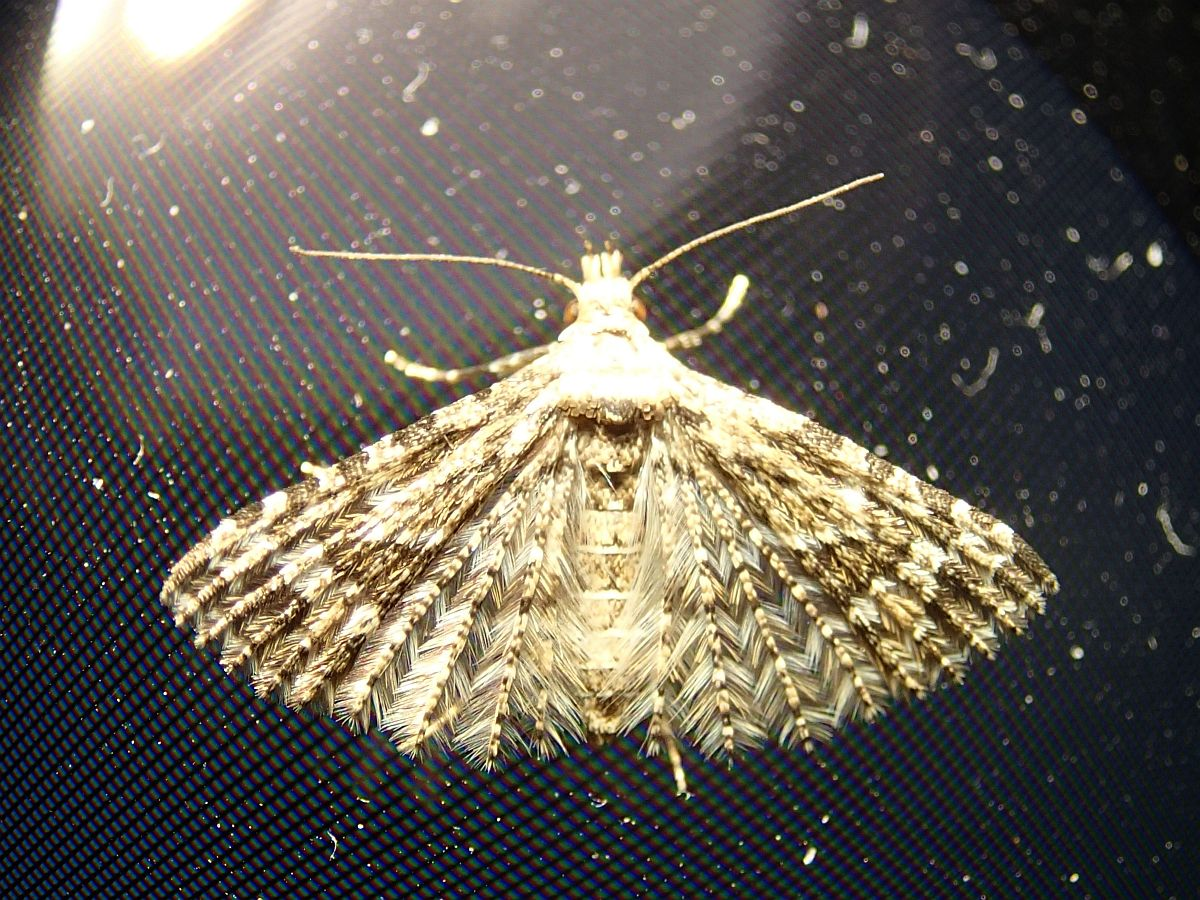Alucitidae: (161, 141, 1079, 800)
moth: (159, 139, 1077, 798)
